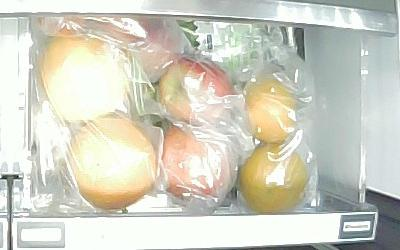apple_vinyl: (154, 125, 235, 206), (158, 54, 234, 127)
grapefruit_vinyl: (67, 116, 159, 210), (39, 34, 130, 121)
persimmon_vinyl: (237, 142, 308, 211), (243, 78, 299, 144)
